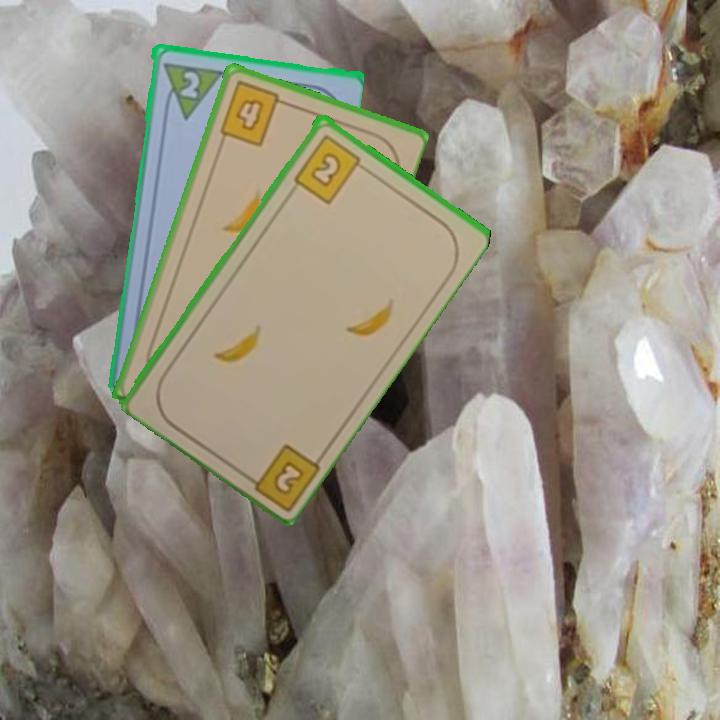2b: (238, 439, 323, 511), (290, 130, 370, 206)
2p: (175, 67, 202, 102)
4b: (215, 77, 291, 150)
